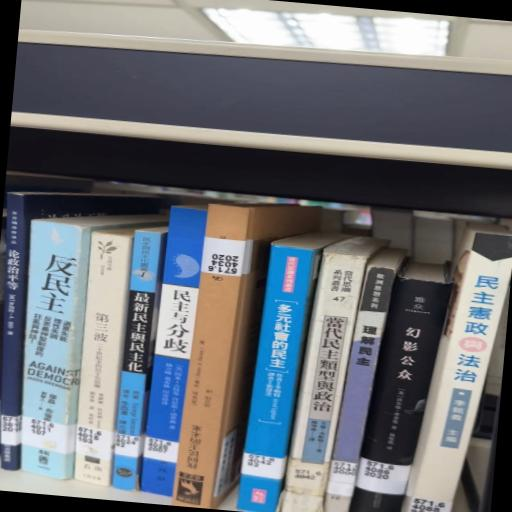reverse: (174, 204, 321, 510)
